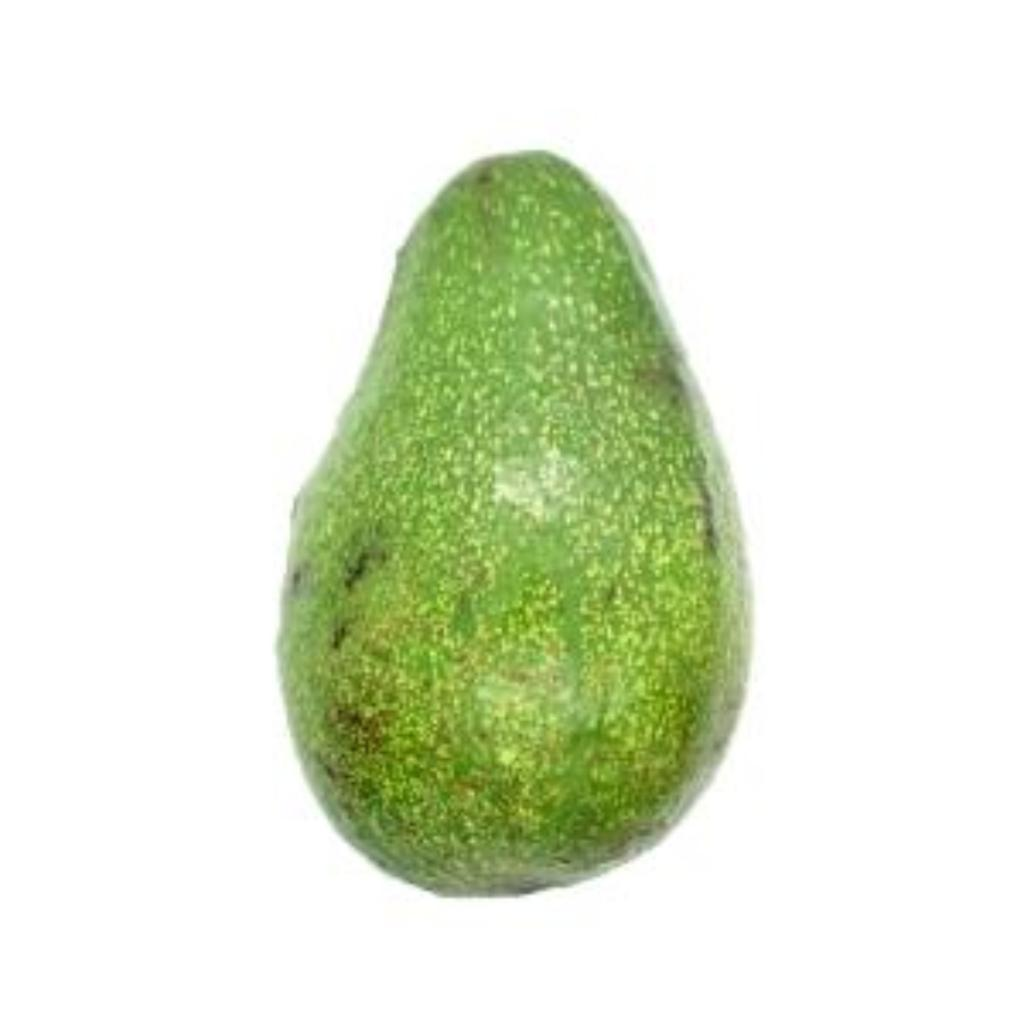cercospora_spot: (254, 108, 804, 910)
